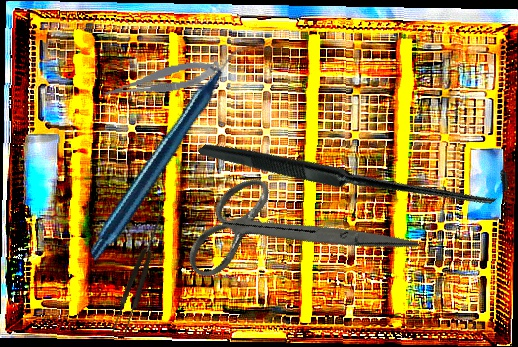Handpiece: (43, 44, 298, 264)
Hook Surgical: (197, 7, 516, 327)
Iris Scissors: (167, 122, 420, 347)
Micro Scissor: (99, 57, 224, 102)
Tissue Forceps: (109, 206, 172, 338)
